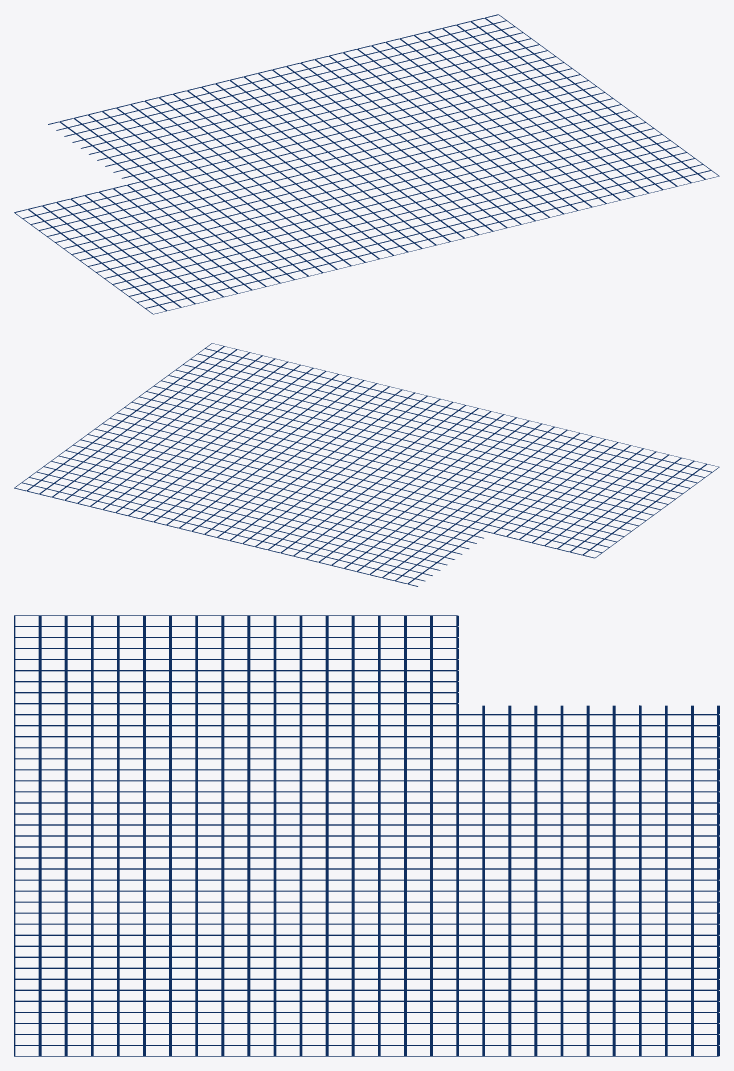
File: cyberFloor.glb
3 renders of one model, top to bottom at view 1: azimuth 30°, elevation 25°; view 2: azimuth 150°, elevation 25°; view 3: azimuth 270°, elevation 25°, orthographic. The views are drawn at different scales.
Visible parts, largest first — view 1: floor; view 2: floor; view 3: floor.
Part boxes in pixels (x1,y1,x2,y2): floor: (14, 14, 719, 314); floor: (14, 343, 719, 586); floor: (14, 615, 719, 1056).
Bounding box in the file's own units: 30 × 0 × 20.29.
1 material, 1 textured.
